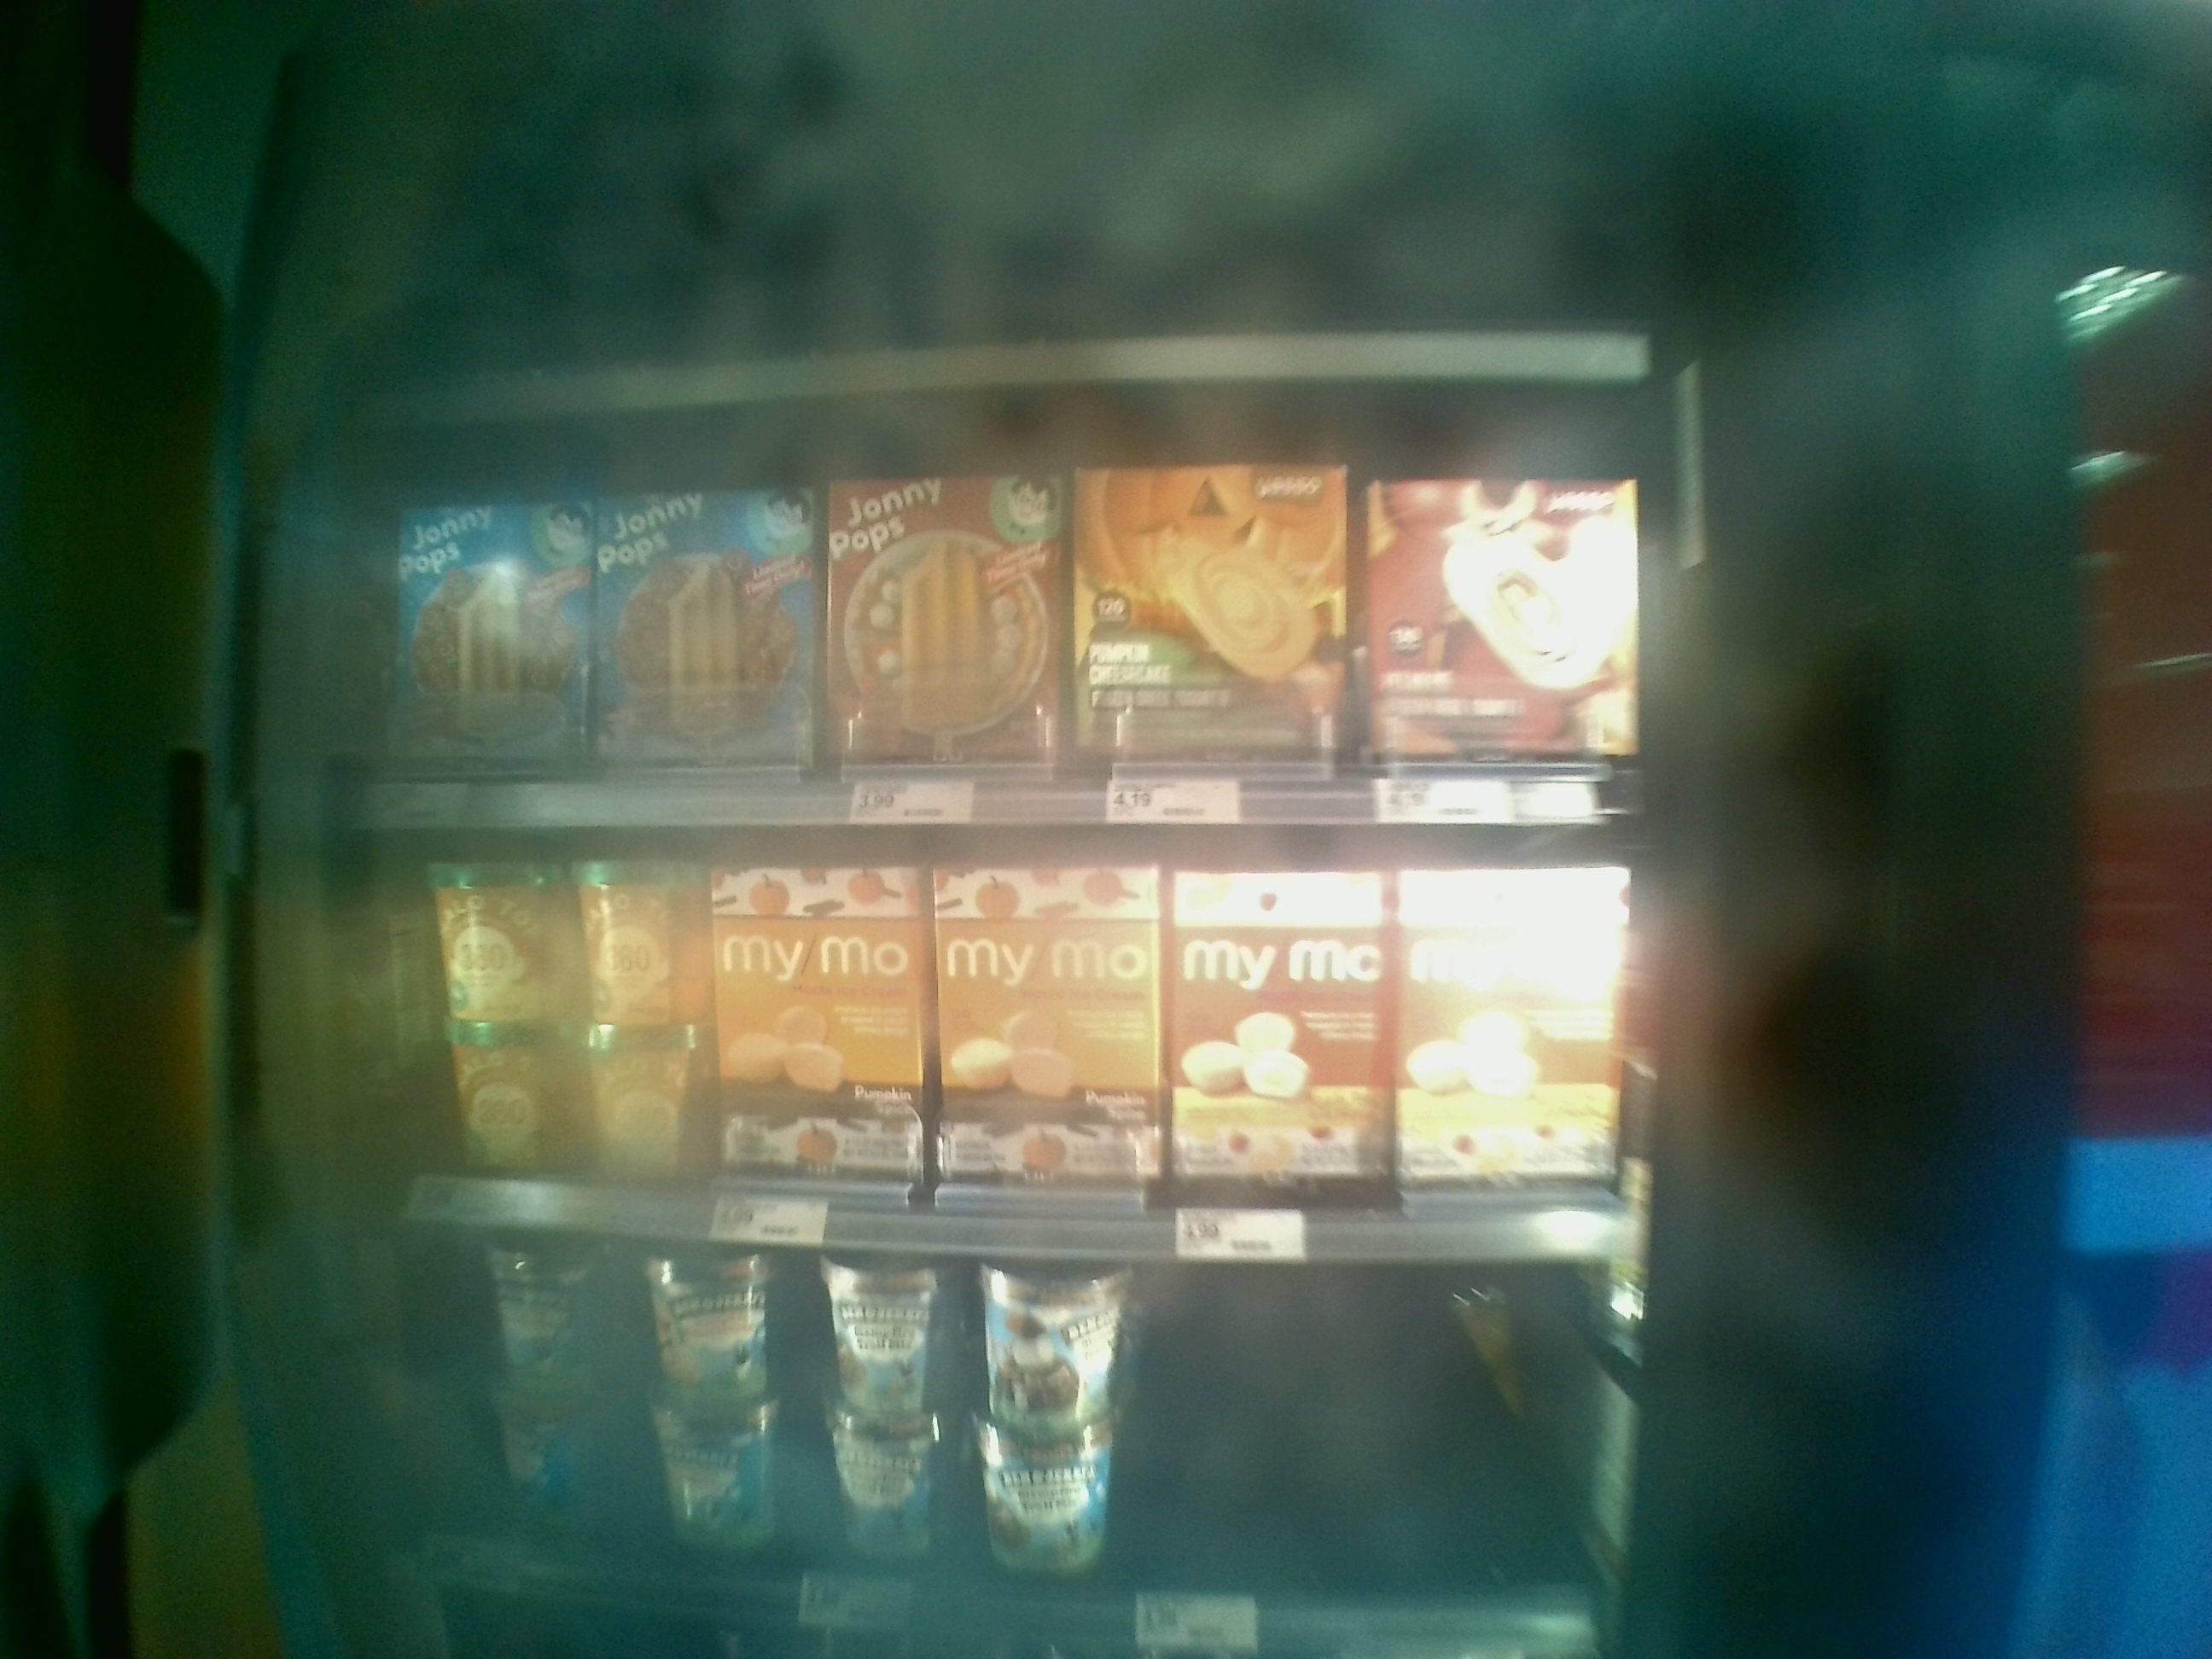shelf: (329, 823, 1672, 1265), (334, 415, 1656, 826)
